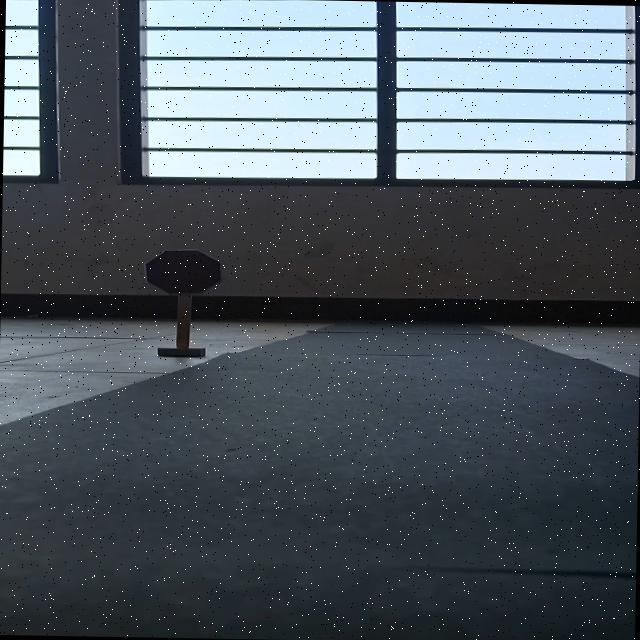Stop: (144, 248, 224, 295)
